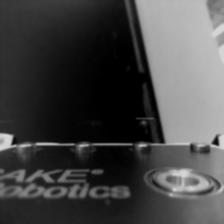Door Handle: (108, 70, 148, 100)
Lock: (136, 118, 154, 141)
